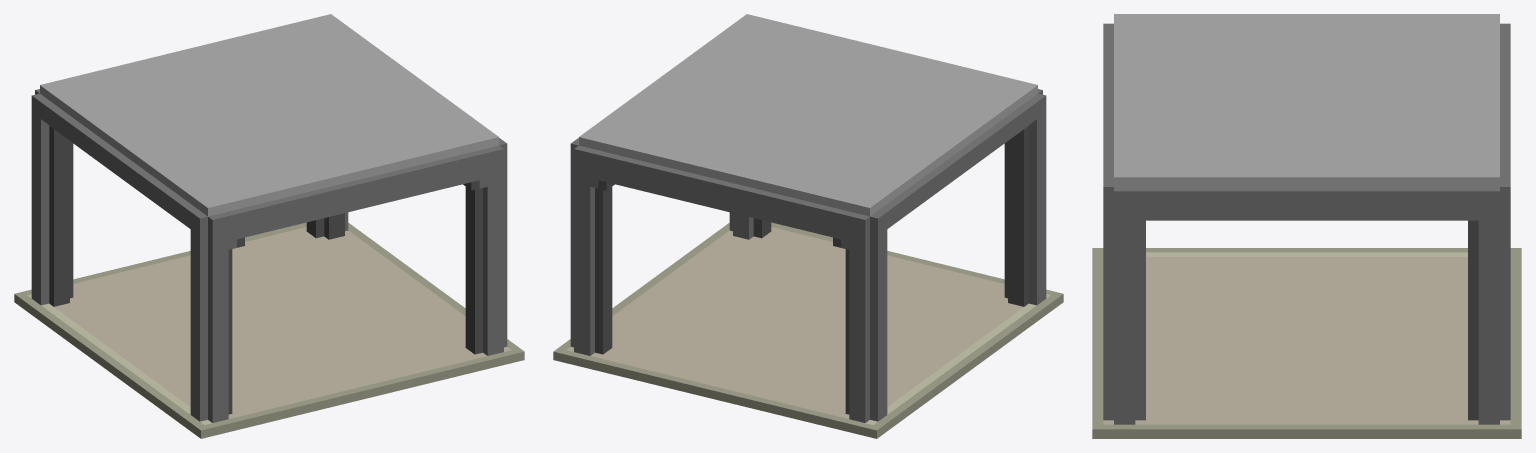
Rendered from Mesa_Sozinha.obj.
3 views of the same model, side by side, from view 1: azimuth 30°, elevation 25°; view 2: azimuth 150°, elevation 25°; view 3: azimuth 270°, elevation 25° (orthographic). The views are drawn at different scales.
Size of the model in its own units: 40 by 26 by 40.
1 material, 1 textured.
